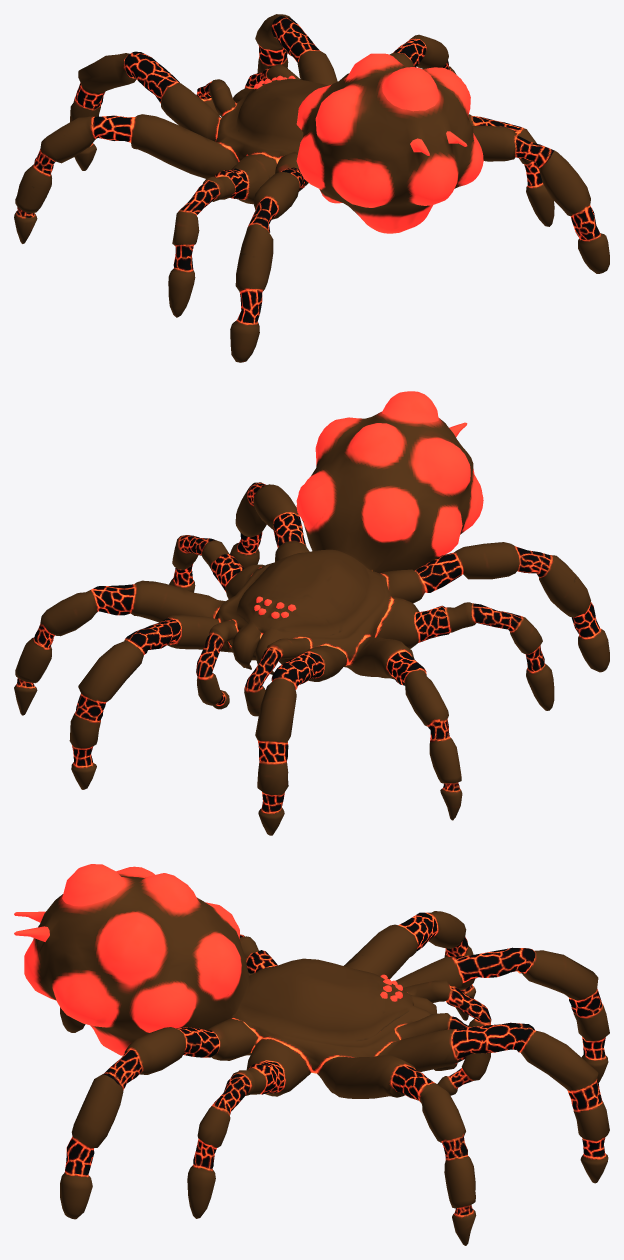
The model's file is ExplosiveSpider.fbx.
3 renders of one model, top to bottom at view 1: azimuth 30°, elevation 25°; view 2: azimuth 150°, elevation 25°; view 3: azimuth 270°, elevation 25°, orthographic. The views are drawn at different scales.
Parts seen in each view (by area): view 1: ExplosiveSpider; view 2: ExplosiveSpider; view 3: ExplosiveSpider.
Part boxes in pixels (bbox=[...]): ExplosiveSpider: bbox=[14, 14, 609, 362]; ExplosiveSpider: bbox=[14, 391, 609, 835]; ExplosiveSpider: bbox=[14, 864, 609, 1245].
Bounding box in the file's own units: 147 × 78.26 × 159.
